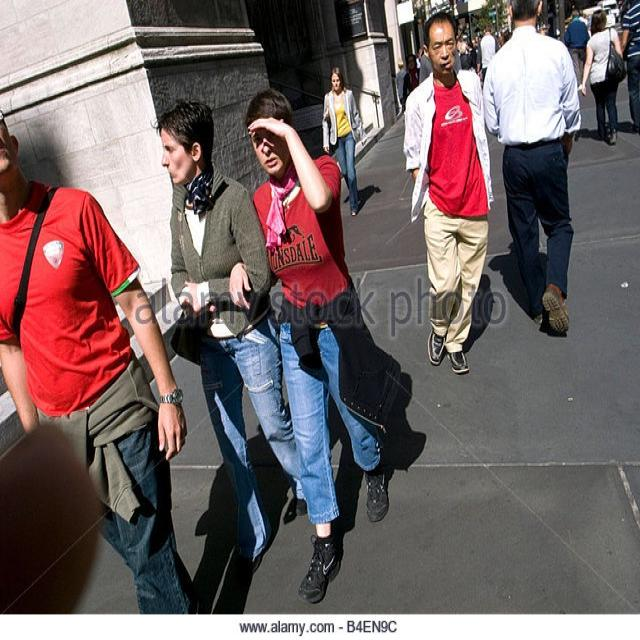body: (0, 111, 194, 618), (224, 83, 391, 603), (150, 96, 310, 576), (400, 9, 493, 375), (480, 0, 581, 335), (0, 421, 107, 616), (194, 426, 293, 612), (362, 314, 427, 478), (466, 233, 548, 355), (320, 65, 365, 219), (580, 6, 627, 146), (562, 8, 592, 94), (621, 0, 640, 133), (475, 23, 500, 83), (401, 52, 421, 112), (354, 176, 381, 212), (394, 58, 411, 114), (572, 119, 600, 152), (456, 26, 477, 69), (416, 44, 431, 80), (579, 9, 592, 26), (455, 49, 462, 74)
